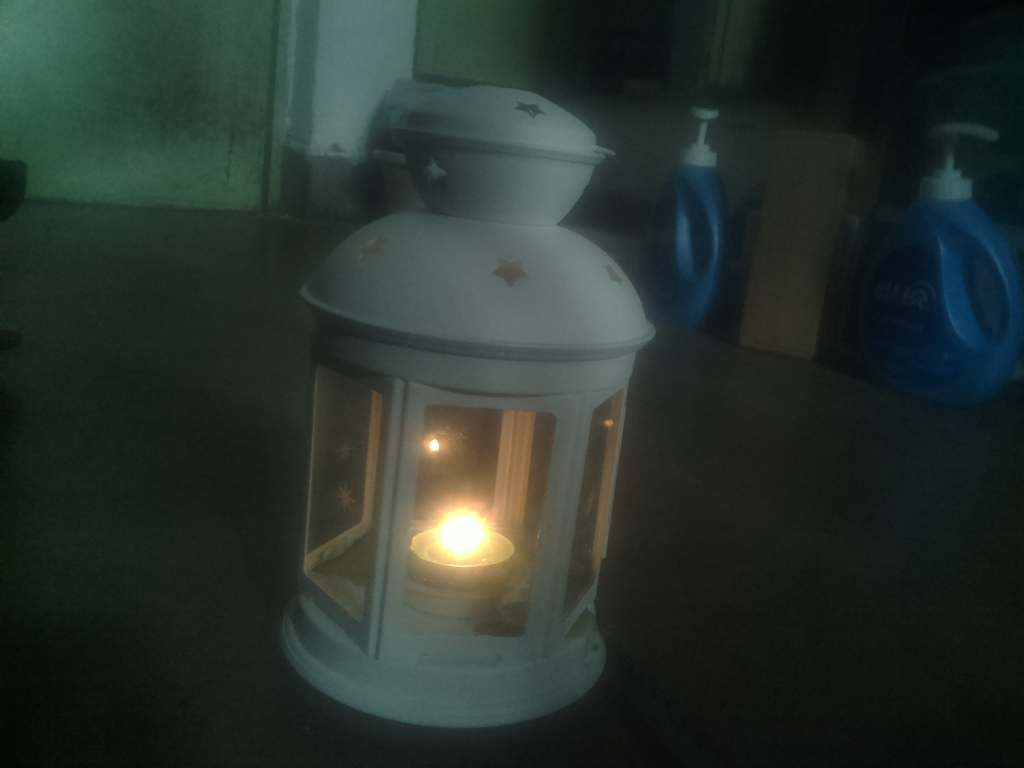fire: (397, 486, 522, 597)
